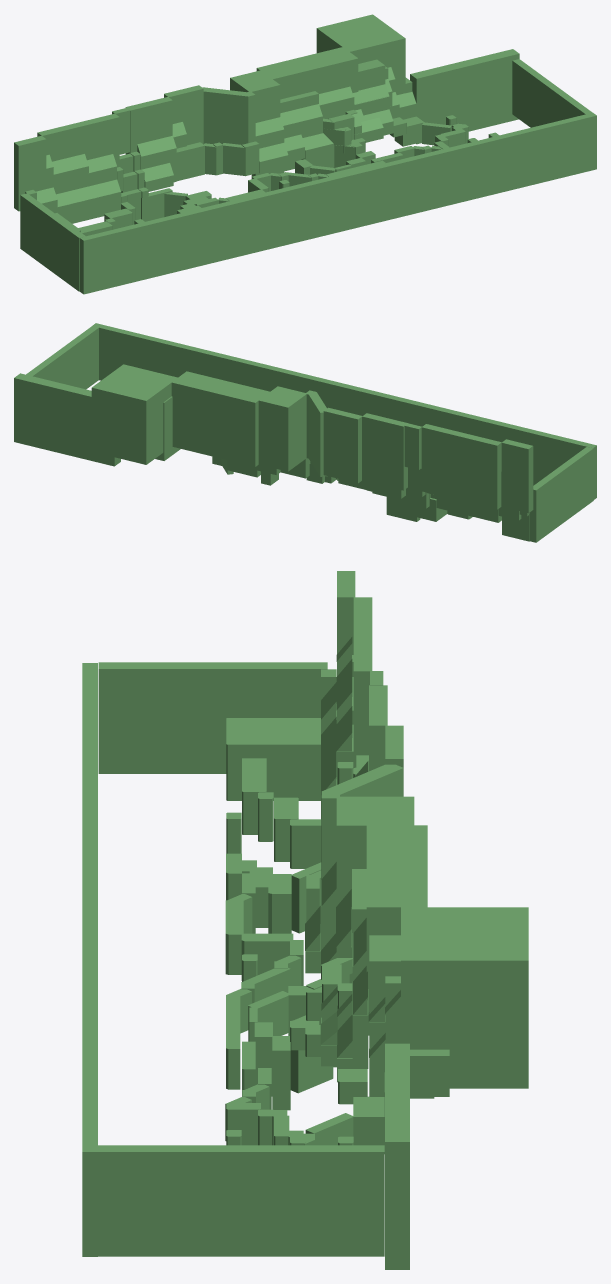
The model's file is walls_collision_lev1.fbx.
3 views of the same model, one above another, from view 1: azimuth 30°, elevation 25°; view 2: azimuth 150°, elevation 25°; view 3: azimuth 270°, elevation 25° (orthographic). The views are drawn at different scales.
Parts seen in each view (by area): view 1: WallCollision129, WallCollision17, WallCollision1, WallCollision16, WallCollision14, WallCollision130, WallCollision9, WallCollision13, WallCollision8, WallCollision10, WallCollision15, WallCollision11 (+32 smaller); view 2: WallCollision129, WallCollision14, WallCollision16, WallCollision17, WallCollision9, WallCollision1, WallCollision15, WallCollision10, WallCollision11, WallCollision130, WallCollision8, WallCollision13 (+8 smaller); view 3: WallCollision130, WallCollision16, WallCollision1, WallCollision129, WallCollision75, WallCollision14, WallCollision17, WallCollision15, WallCollision9, WallCollision19, WallCollision13, WallCollision21 (+23 smaller).
Part boxes in pixels (left/top/right/bottom): WallCollision129: left=79, top=112, right=596, bottom=294; WallCollision17: left=410, top=49, right=519, bottom=144; WallCollision1: left=20, top=193, right=85, bottom=291; WallCollision16: left=316, top=14, right=405, bottom=94; WallCollision14: left=256, top=47, right=358, bottom=99; WallCollision130: left=512, top=59, right=592, bottom=127; WallCollision9: left=37, top=113, right=119, bottom=167; WallCollision13: left=202, top=87, right=250, bottom=144; WallCollision8: left=14, top=135, right=46, bottom=211; WallCollision10: left=125, top=97, right=172, bottom=154; WallCollision15: left=230, top=70, right=280, bottom=122; WallCollision11: left=164, top=85, right=203, bottom=145; WallCollision129: left=92, top=323, right=596, bottom=499; WallCollision14: left=171, top=371, right=269, bottom=466; WallCollision16: left=91, top=364, right=177, bottom=464; WallCollision17: left=14, top=373, right=120, bottom=466; WallCollision9: left=421, top=424, right=501, bottom=509; WallCollision1: left=529, top=447, right=593, bottom=542; WallCollision15: left=258, top=386, right=307, bottom=471; WallCollision10: left=362, top=413, right=407, bottom=490; WallCollision11: left=323, top=407, right=362, bottom=483; WallCollision130: left=26, top=326, right=98, bottom=389; WallCollision8: left=501, top=439, right=533, bottom=513; WallCollision13: left=308, top=392, right=327, bottom=476; WallCollision130: left=98, top=1145, right=384, bottom=1256; WallCollision16: left=401, top=907, right=528, bottom=1088; WallCollision1: left=98, top=662, right=327, bottom=773; WallCollision129: left=82, top=663, right=97, bottom=1256; WallCollision75: left=226, top=718, right=320, bottom=800; WallCollision14: left=366, top=825, right=427, bottom=1035; WallCollision17: left=385, top=1043, right=409, bottom=1269; WallCollision15: left=336, top=796, right=414, bottom=906; WallCollision9: left=353, top=597, right=372, bottom=767; WallCollision19: left=410, top=1049, right=449, bottom=1096; WallCollision13: left=321, top=764, right=403, bottom=878; WallCollision21: left=369, top=935, right=400, bottom=1014.
Bounding box in the file's own units: 7250 × 1485 × 2792.
